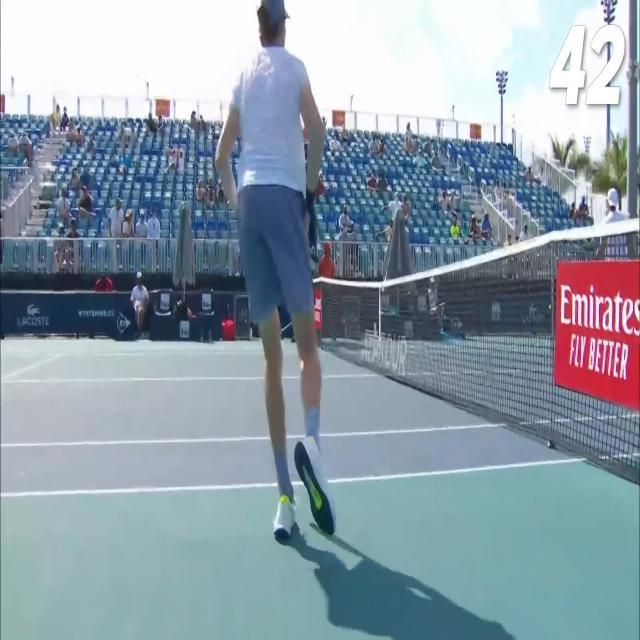player: (214, 0, 338, 545)
